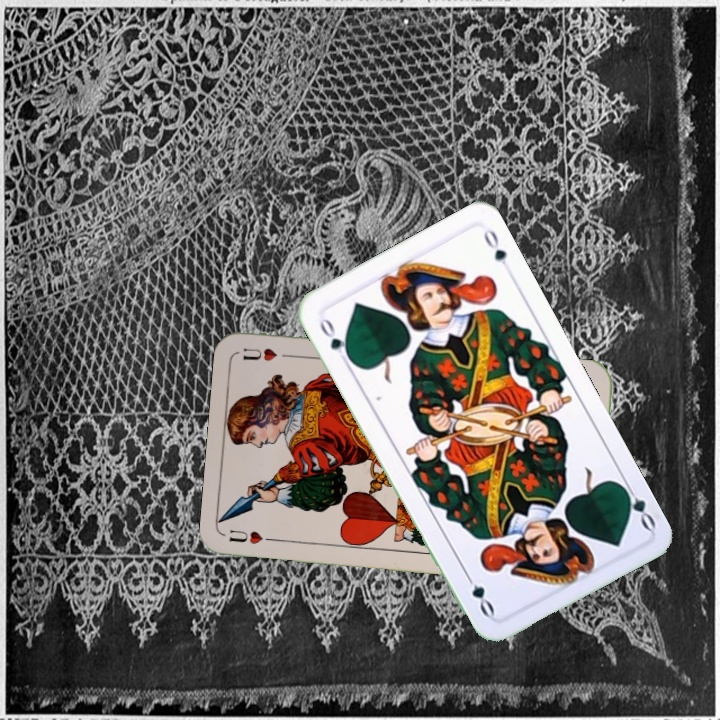GO: (616, 477, 659, 533), (315, 312, 354, 367)
HU: (225, 525, 283, 547)
